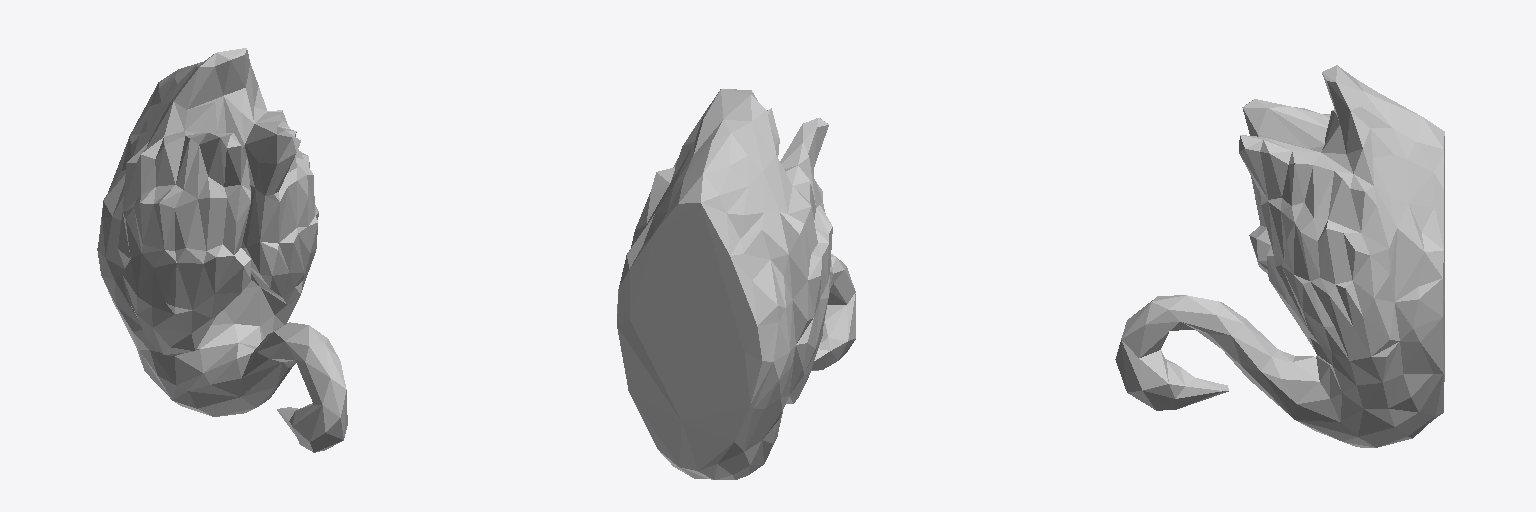
File: cygne500.obj
3 renders of one model, left to right at view 1: azimuth 30°, elevation 25°; view 2: azimuth 150°, elevation 25°; view 3: azimuth 270°, elevation 25°, orthographic.
Visible parts, largest first — view 1: STL object; view 2: STL object; view 3: STL object.
Boxes of the visible parts, box(x1,y1,x2,y2) form: STL object: box(97, 48, 347, 452); STL object: box(617, 89, 855, 479); STL object: box(1115, 65, 1444, 447).
Bounding box in the file's own units: 82.79 × 160 × 129.